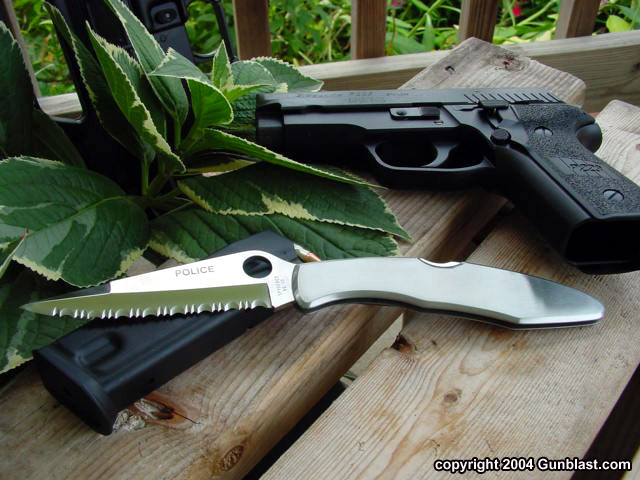knife: (11, 246, 291, 326)
